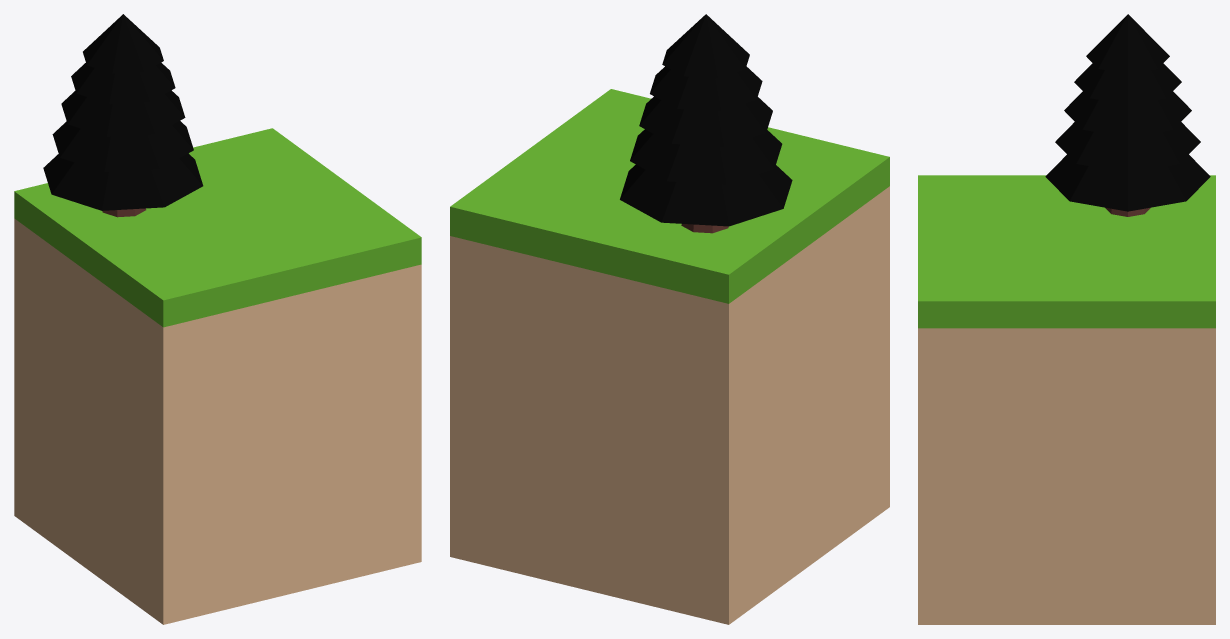
File: TreeTile1.fbx
The picture shows the model from 3 angles, left to right: view 1: azimuth 30°, elevation 25°; view 2: azimuth 150°, elevation 25°; view 3: azimuth 270°, elevation 25°; orthographic projection. The views are drawn at different scales.
Visible parts, largest first — view 1: Cube, Cylinder; view 2: Cube, Cylinder; view 3: Cube, Cylinder.
Boxes of the visible parts, x1,y1,x2,y2 form: Cube: (14,128,421,624); Cylinder: (43,14,203,217); Cube: (450,89,889,624); Cylinder: (620,14,792,233); Cube: (918,175,1215,624); Cylinder: (1045,14,1210,216).
Bounding box in the file's own units: 103 × 192 × 100.
